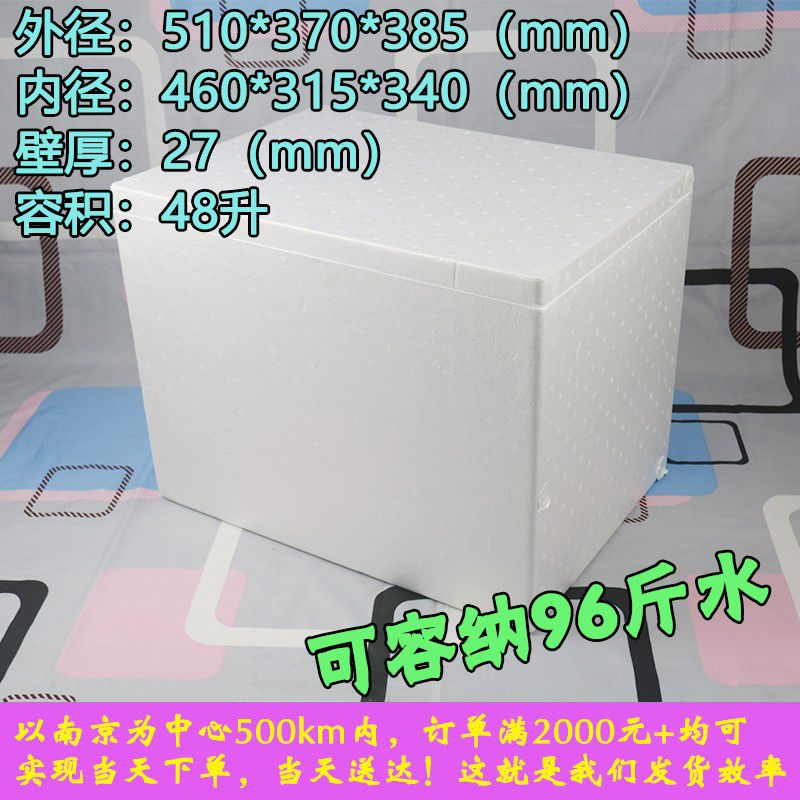Boxes: (101, 114, 692, 620)
